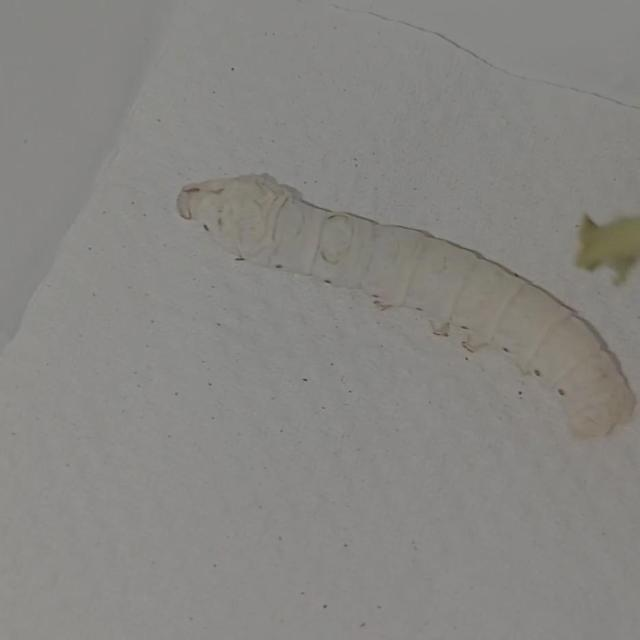Healthy: (172, 160, 640, 454)
